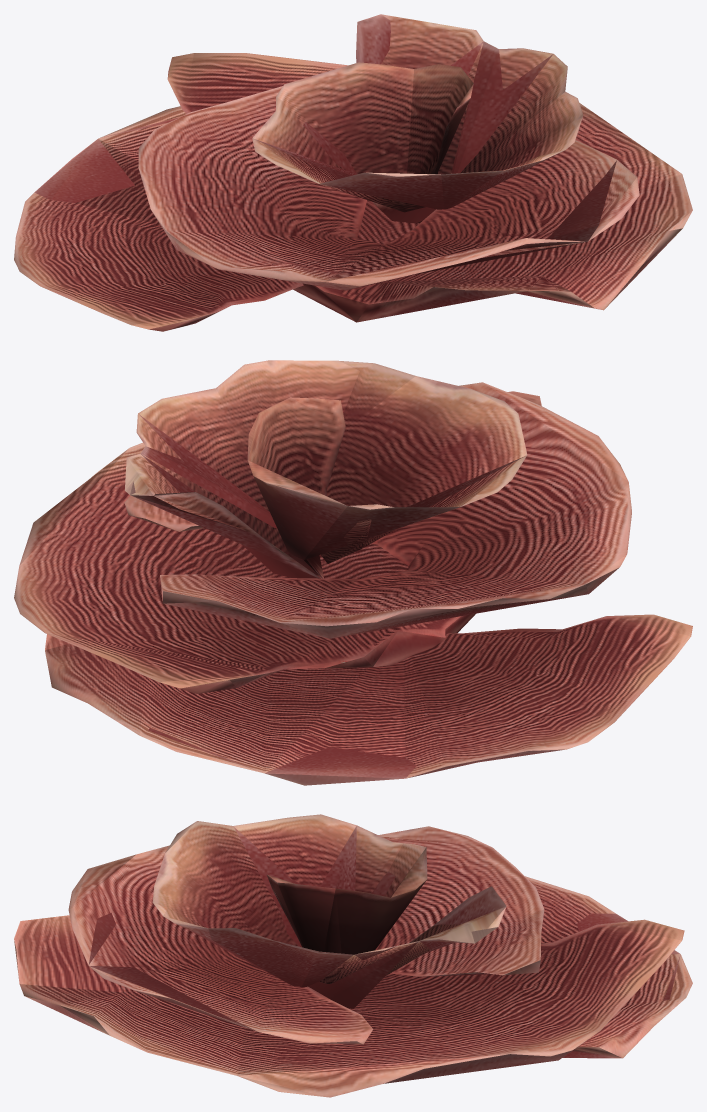
3 renders of one model, top to bottom at view 1: azimuth 30°, elevation 25°; view 2: azimuth 150°, elevation 25°; view 3: azimuth 270°, elevation 25°, orthographic. The views are drawn at different scales.
Visible parts, largest first — view 1: sc012; view 2: sc012; view 3: sc012.
Part boxes in pixels (x1,y1,x2,y2): sc012: [14, 14, 692, 331]; sc012: [14, 360, 692, 785]; sc012: [14, 814, 692, 1097].
Bounding box in the file's own units: 991 × 327 × 1086.
